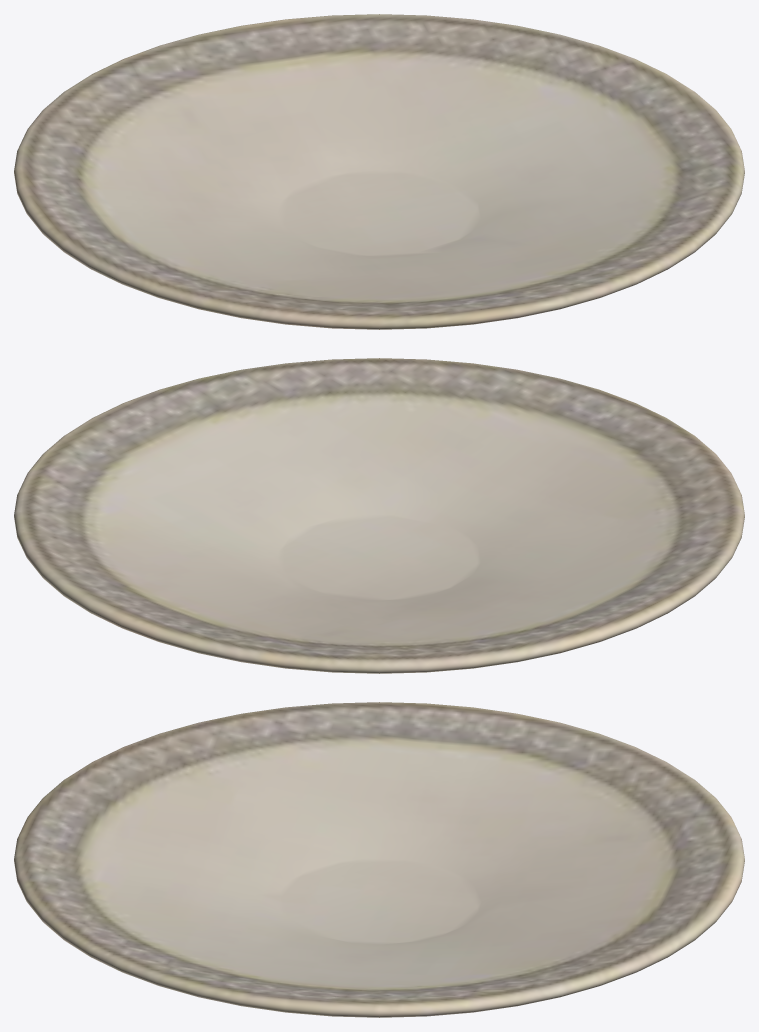
File: dinner_plate.glb
3 views of the same model, one above another, from view 1: azimuth 30°, elevation 25°; view 2: azimuth 150°, elevation 25°; view 3: azimuth 270°, elevation 25° (orthographic).
Parts seen in each view (by area): view 1: tea_set_01_plate_large_circular_03; view 2: tea_set_01_plate_large_circular_03; view 3: tea_set_01_plate_large_circular_03.
Part boxes in pixels (x1,y1,x2,y2): tea_set_01_plate_large_circular_03: [14, 14, 744, 329]; tea_set_01_plate_large_circular_03: [14, 358, 744, 673]; tea_set_01_plate_large_circular_03: [14, 702, 744, 1017].
Bounding box in the file's own units: 0.1875 × 0.0177 × 0.1875.
1 material, 1 textured.
